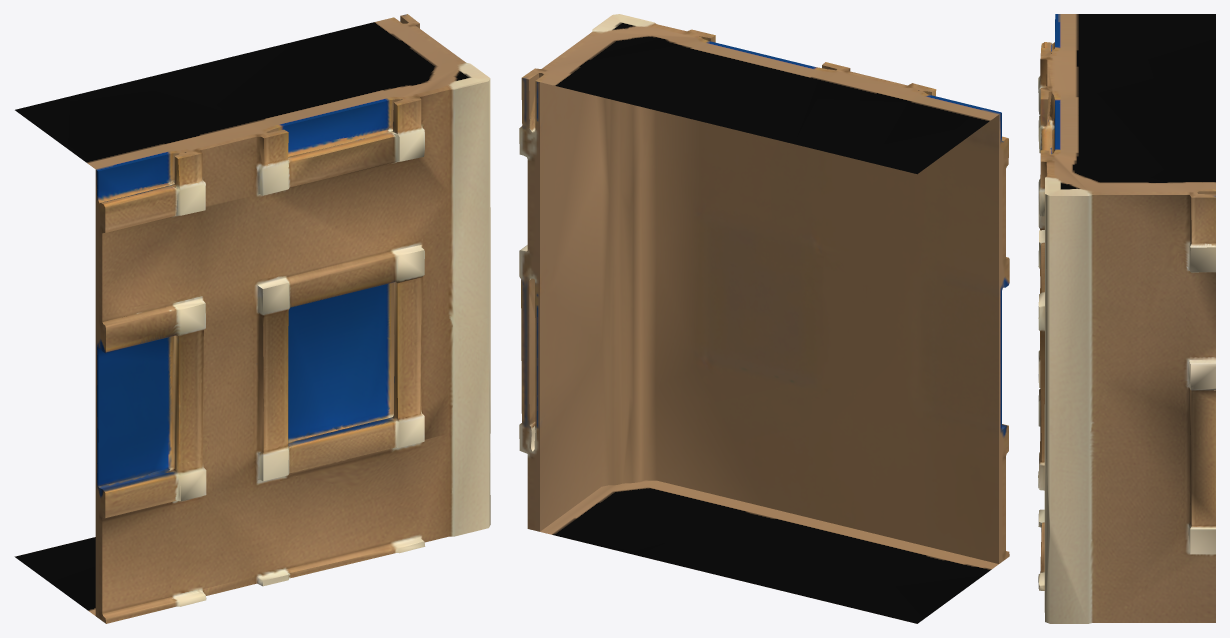
File: 6-upper-walls-front-right.fbx
3 views of the same model, side by side, from view 1: azimuth 30°, elevation 25°; view 2: azimuth 150°, elevation 25°; view 3: azimuth 270°, elevation 25° (orthographic). The views are drawn at different scales.
Parts seen in each view (by area): view 1: upper-walls-front-right; view 2: upper-walls-front-right; view 3: upper-walls-front-right.
Part boxes in pixels (x1,y1,x2,y2): upper-walls-front-right: (14,14,490,623); upper-walls-front-right: (519,14,1009,623); upper-walls-front-right: (1038,14,1215,623).
Size of the model in its own units: 5138 by 5542 by 2087.
Materials: 1 (1 with a texture image).
